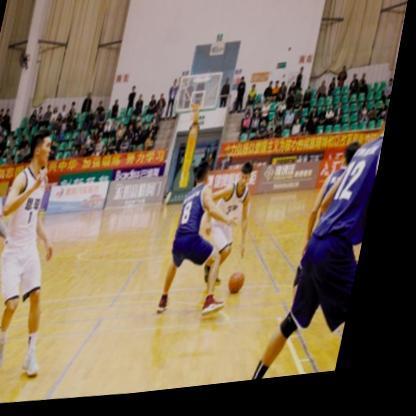basketball: (239, 276, 258, 301)
